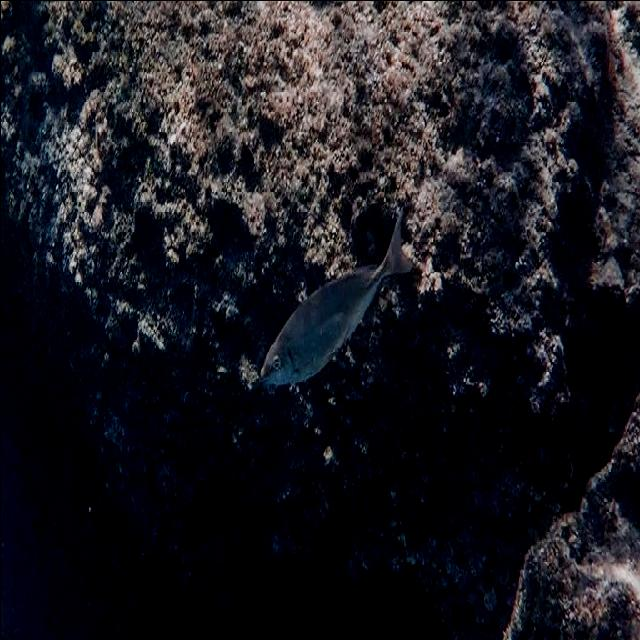Sokar Baligi: (256, 182, 424, 402)
